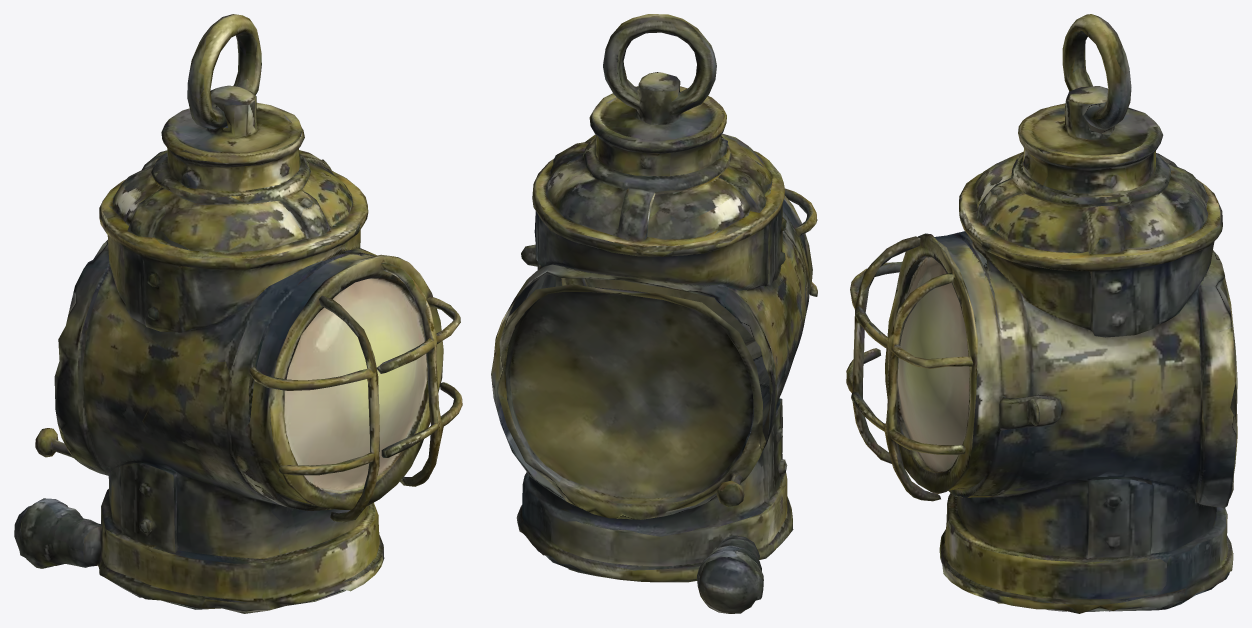
The model's file is lantern.glb.
3 renders of one model, left to right at view 1: azimuth 30°, elevation 25°; view 2: azimuth 150°, elevation 25°; view 3: azimuth 270°, elevation 25°, orthographic. The views are drawn at different scales.
Visible parts, largest first — view 1: geometry_0; view 2: geometry_0; view 3: geometry_0.
Boxes of the visible parts, x1,y1,x2,y2 form: geometry_0: (14,14,462,613); geometry_0: (491,14,817,613); geometry_0: (846,14,1237,613).
Size of the model in its own units: 0.5534 by 0.8904 by 0.5679.
Materials: 1 (1 with a texture image).
